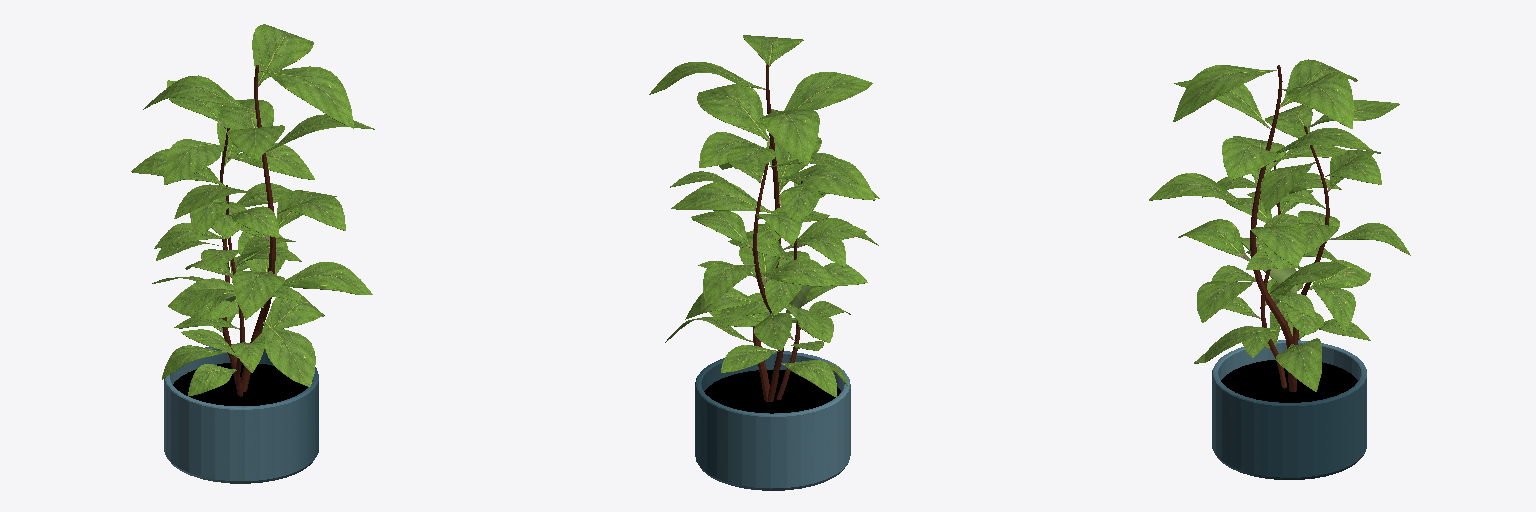
The picture shows the model from 3 angles: view 1: azimuth 30°, elevation 25°; view 2: azimuth 150°, elevation 25°; view 3: azimuth 270°, elevation 25°; orthographic projection.
Visible parts, largest first — view 1: polySurface125; view 2: polySurface125; view 3: polySurface125.
Part boxes in pixels (x1,y1,x2,y2): polySurface125: (131, 24, 374, 483); polySurface125: (649, 35, 879, 490); polySurface125: (1149, 59, 1410, 479).
Size of the model in its own units: 1.19 by 2.39 by 1.43.
3 materials, 2 textured.